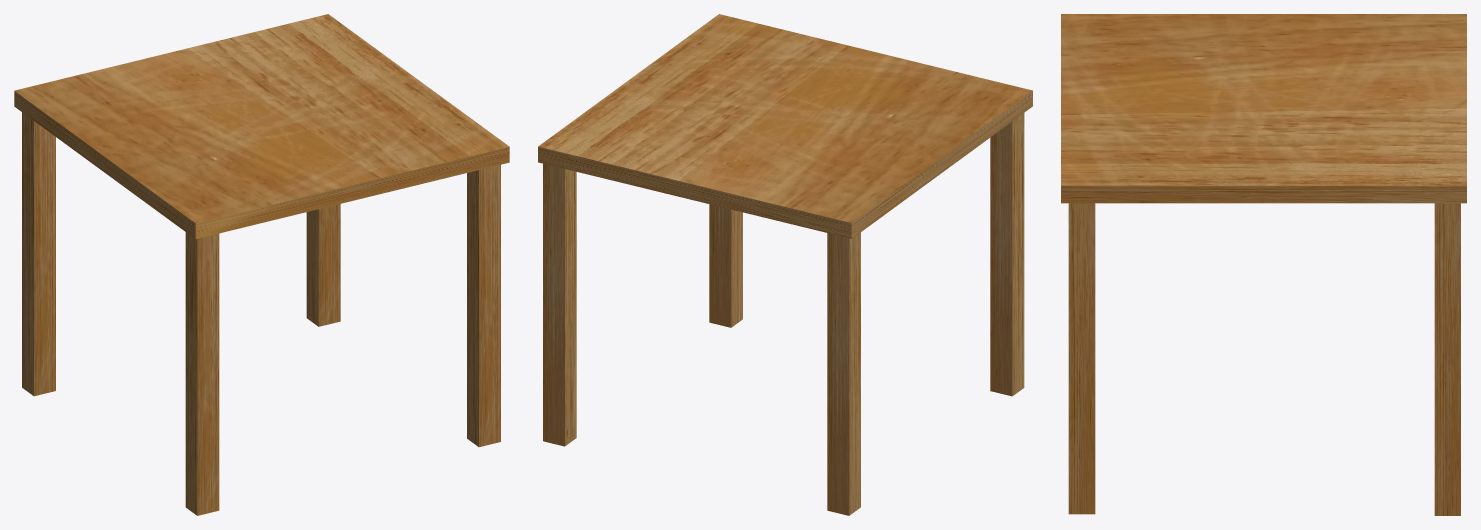
Rendered from table.gltf.
3 views of the same model, side by side, from view 1: azimuth 30°, elevation 25°; view 2: azimuth 150°, elevation 25°; view 3: azimuth 270°, elevation 25° (orthographic). The views are drawn at different scales.
Parts seen in each view (by area): view 1: Cube, Cube.002, Cube.003, Cube.001, Cube.004; view 2: Cube, Cube.001, Cube.002, Cube.004, Cube.003; view 3: Cube, Cube.003, Cube.004.
Part boxes in pixels (left/top/right/bottom): Cube: left=14, top=14, right=509, bottom=238; Cube.002: left=185, top=232, right=219, bottom=515; Cube.003: left=467, top=165, right=500, bottom=447; Cube.001: left=22, top=112, right=55, bottom=396; Cube.004: left=306, top=204, right=340, bottom=326; Cube: left=538, top=14, right=1032, bottom=238; Cube.001: left=827, top=232, right=860, bottom=515; Cube.002: left=990, top=113, right=1024, bottom=396; Cube.004: left=543, top=163, right=576, bottom=446; Cube.003: left=709, top=204, right=742, bottom=327; Cube: left=1061, top=14, right=1466, bottom=203; Cube.003: left=1068, top=203, right=1095, bottom=514; Cube.004: left=1434, top=203, right=1460, bottom=515.
Size of the model in its own units: 1 by 0.9015 by 1.
5 materials, 5 textured.
